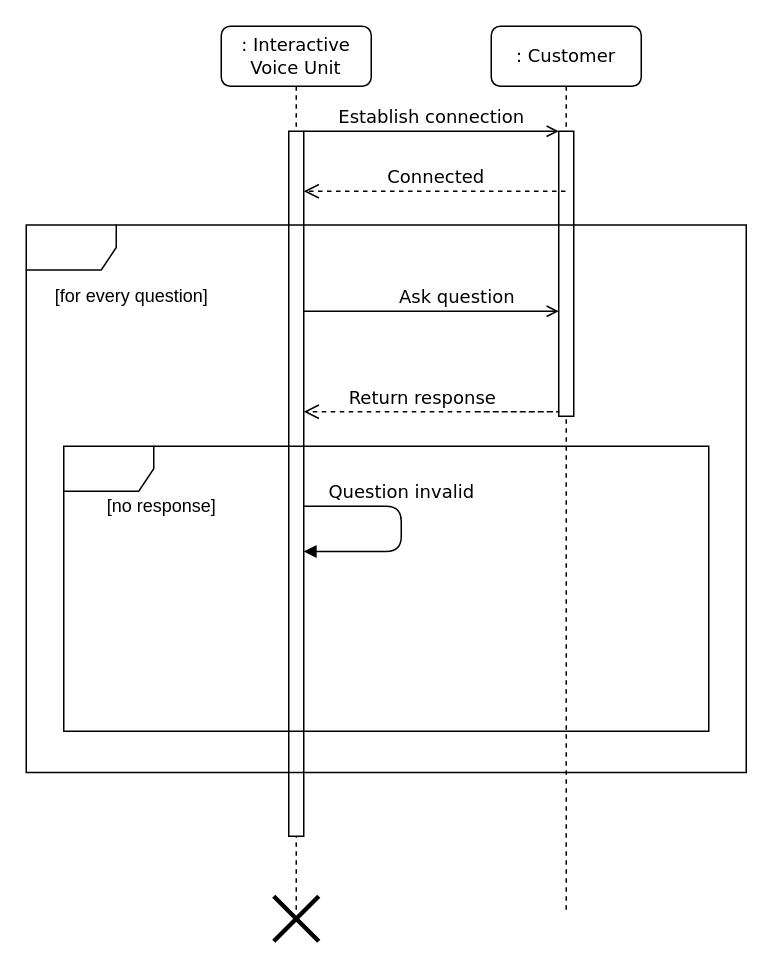
Some shapes in this 773 by 969 pixel diagram are drawn without their labels. The shapes that lost their labels are listed below. From the top down, each one's box as (x1, y1, x2, y2) in pixels, then its label:
(25, 224, 746, 772): loop
(62, 445, 709, 731): alt
